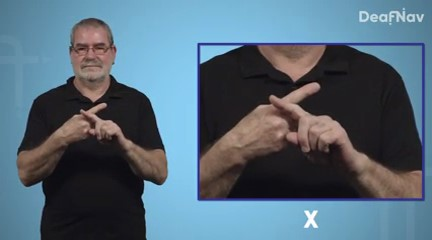X: (232, 77, 361, 174), (65, 101, 124, 150)
